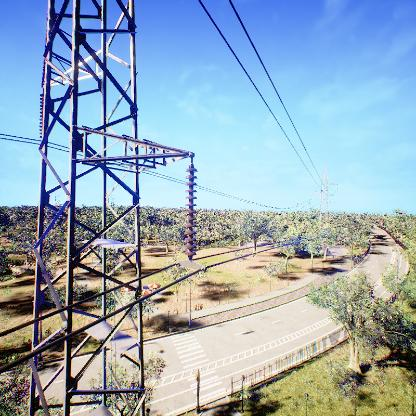insulator: (184, 166, 199, 261)
